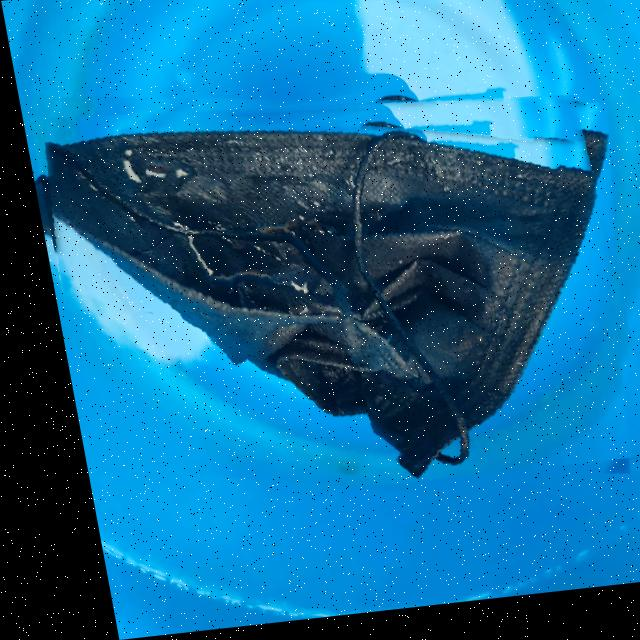litter: (24, 68, 640, 515)
